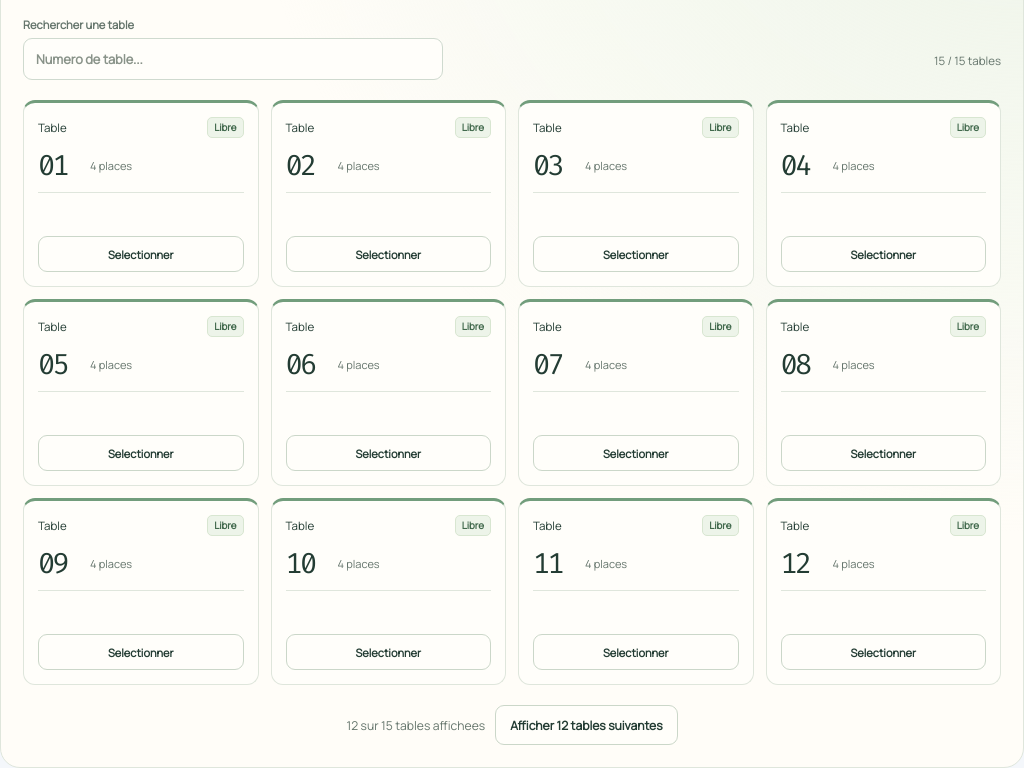
Scenario: shows tables in batches while keeping search and selection available
The width and height of the screenshot is (1024, 768).
(page scrolled)
Check: the button with aria-label "Selectionner la table 1" is shown, box [38,236,244,272]
Click the button "Afficher 12 tables suivantes": (586, 725) [495,705,678,745]
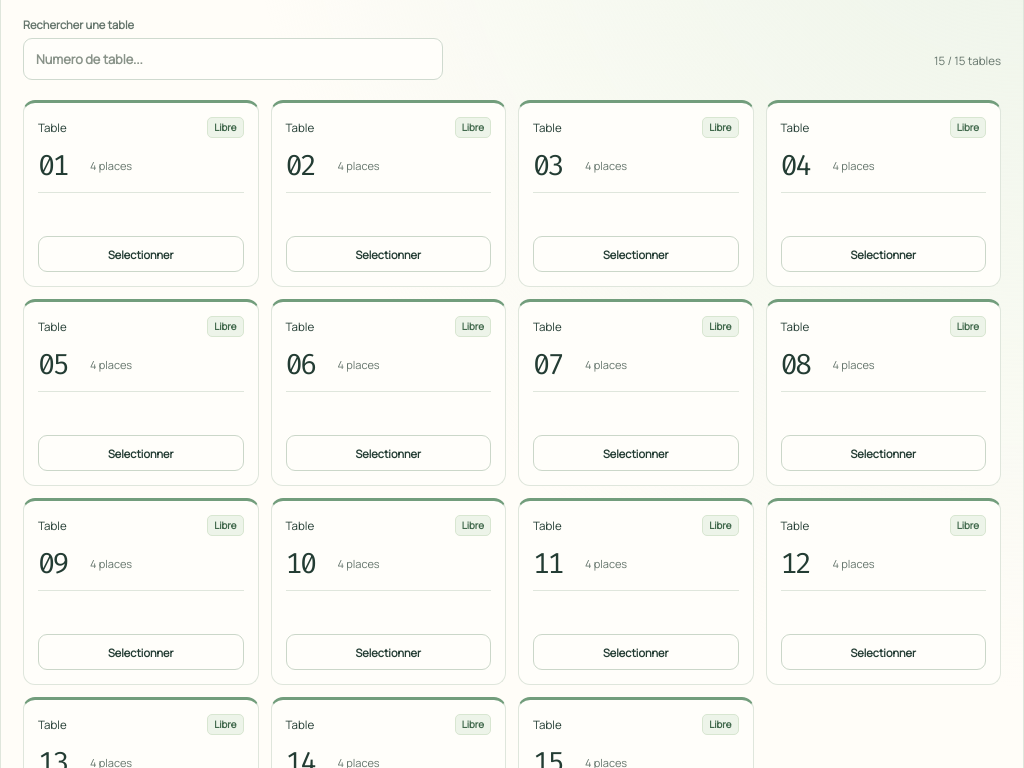
In the search field labelled "Rechercher une table": (233, 59) [23,38,443,80], type "15"
(page scrolled)
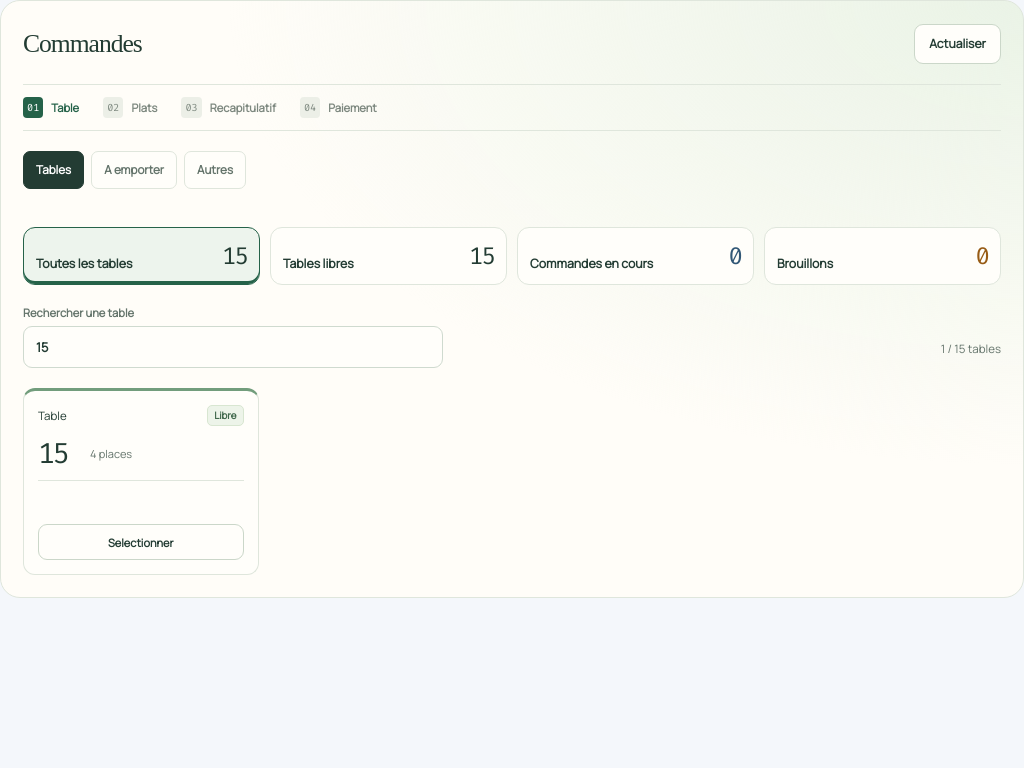
Check: the number of buttons named "Selectionner la table" is 1
Click the button with aria-label "Selectionner la table 15": (141, 542) [38,524,244,560]
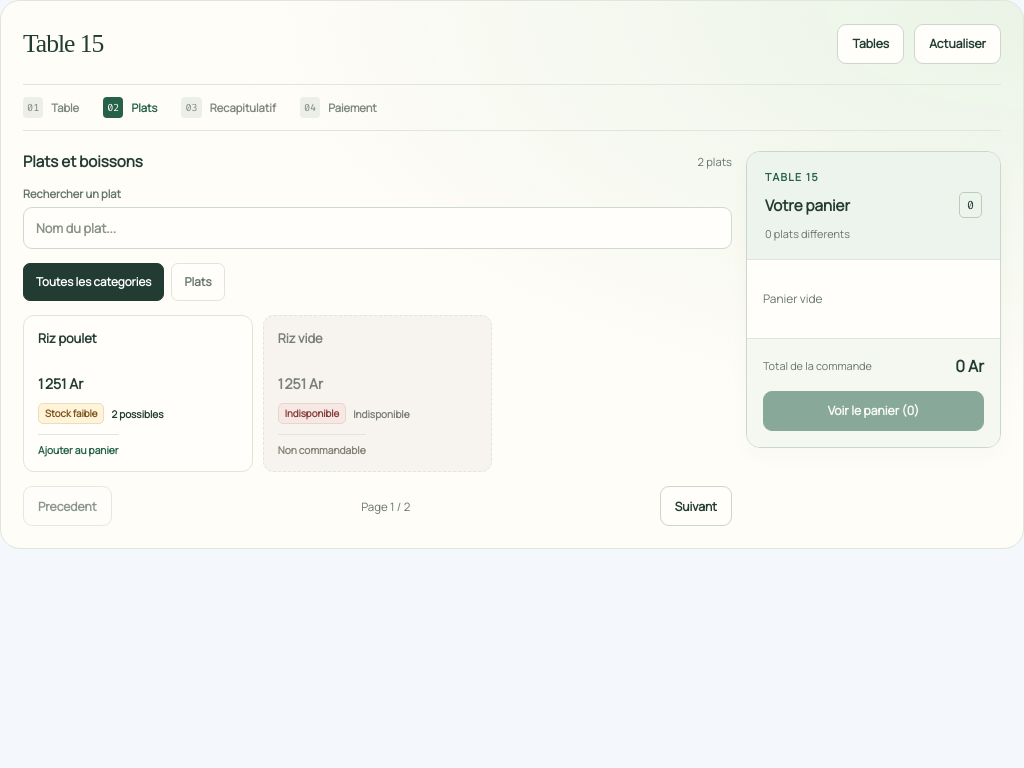
Check: the button with aria-label "Ajouter Riz poulet" is shown, box [23,315,253,472]
Check: the heading "Table 15" is shown, box [23,29,103,58]
